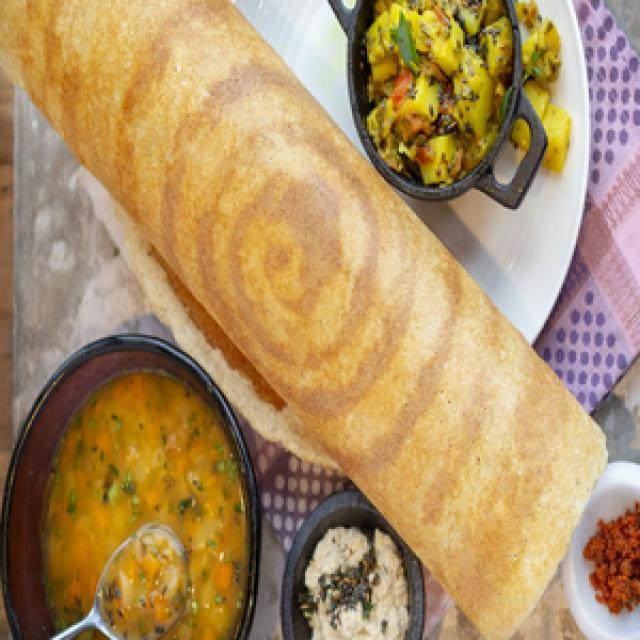dosa: (0, 0, 614, 640)
